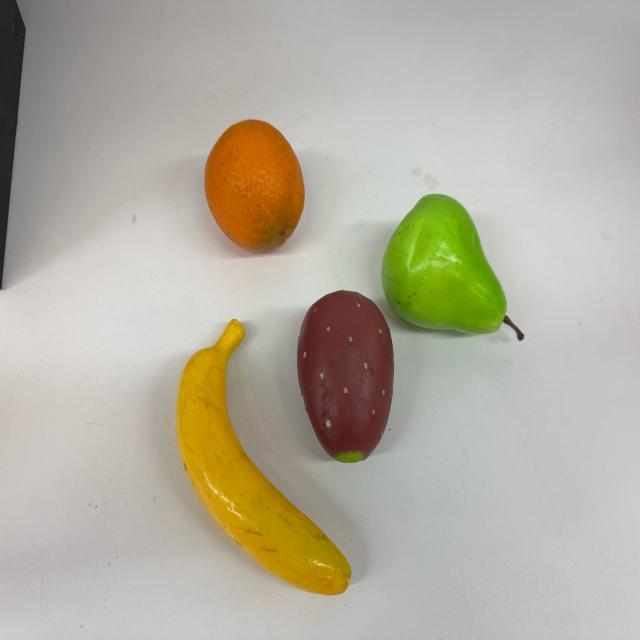banana: (174, 318, 352, 594)
orange: (204, 120, 305, 251)
pear: (380, 195, 525, 342)
tuna: (295, 289, 394, 463)
